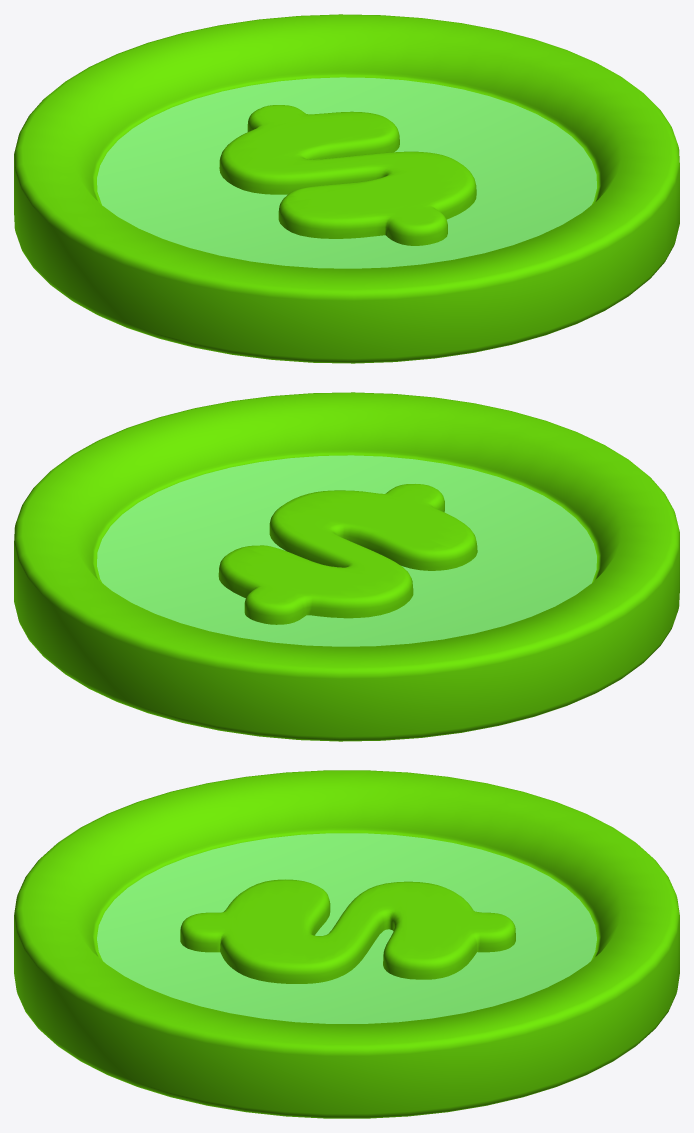
File: coin 1.fbx
3 views of the same model, one above another, from view 1: azimuth 30°, elevation 25°; view 2: azimuth 150°, elevation 25°; view 3: azimuth 270°, elevation 25° (orthographic).
Visible parts, largest first — view 1: Text; view 2: Text; view 3: Text.
Part boxes in pixels (x1,y1,x2,y2): Text: [14, 14, 679, 363]; Text: [14, 392, 679, 741]; Text: [14, 770, 679, 1118].
Size of the model in its own units: 200 by 24.21 by 200.
